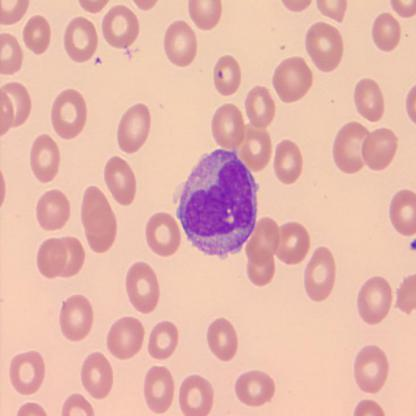Monocyte: (172, 146, 261, 260)
